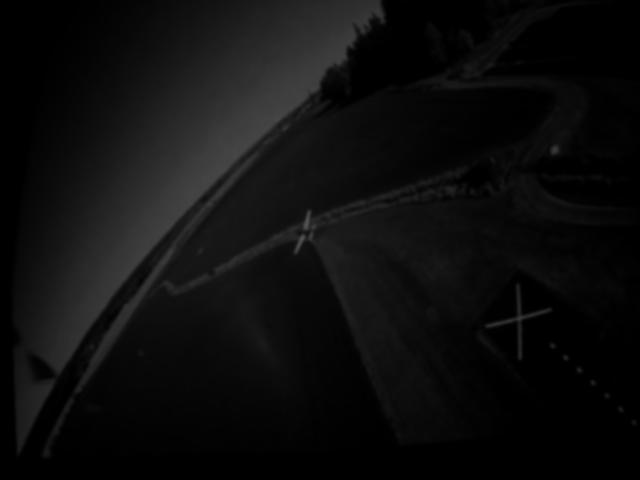hedef: (272, 200, 338, 278)
